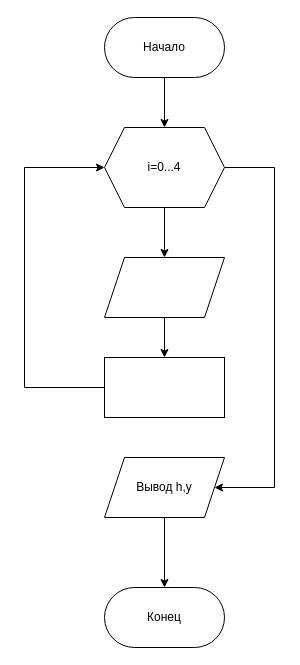
Image size: 300x665. Some labels were removed from this diagram. Each missing label, with the box of its shape:
Ввод j: (104, 256, 224, 318)
Ввычисление h,y: (104, 356, 224, 418)
